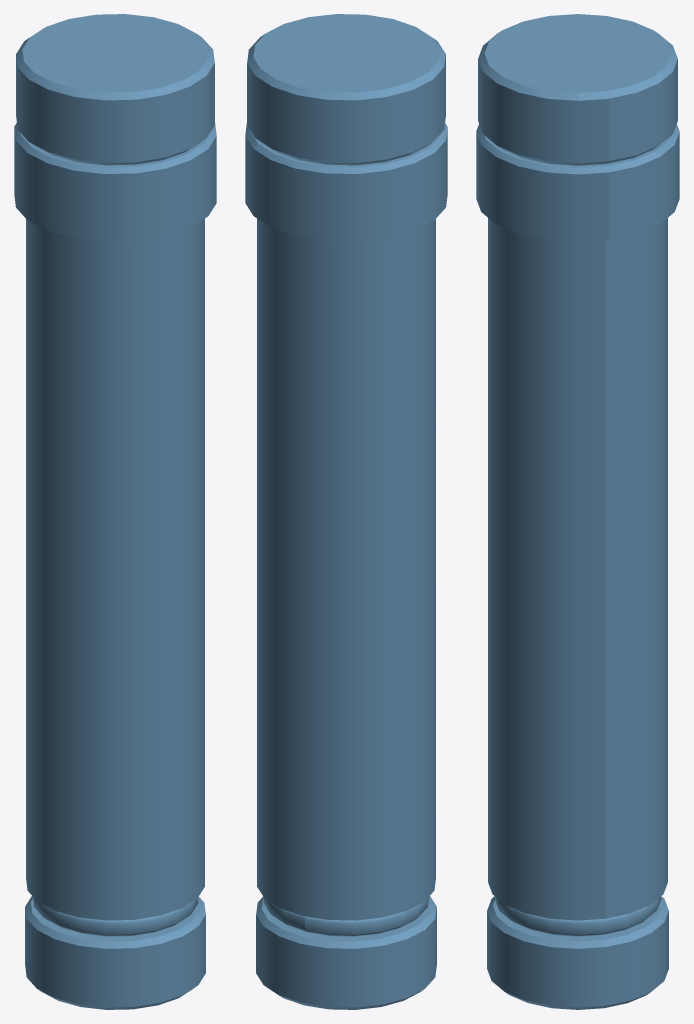
File: FHXY_02BX_A18_JiaChaQi_MD_L_exp.fbx
3 views of the same model, side by side, from view 1: azimuth 30°, elevation 25°; view 2: azimuth 150°, elevation 25°; view 3: azimuth 270°, elevation 25° (orthographic).
Visible parts, largest first — view 1: FHXY_02BX_A18_JiaChaQi_MD_L01_exp, FHXY_02BX_A18_JiaChaQi_MD_L02_exp, FHXY_02BX_A18_JiaChaQi_MD_L03_exp; view 2: FHXY_02BX_A18_JiaChaQi_MD_L01_exp, FHXY_02BX_A18_JiaChaQi_MD_L02_exp, FHXY_02BX_A18_JiaChaQi_MD_L03_exp; view 3: FHXY_02BX_A18_JiaChaQi_MD_L01_exp, FHXY_02BX_A18_JiaChaQi_MD_L02_exp, FHXY_02BX_A18_JiaChaQi_MD_L03_exp.
Part boxes in pixels (box(x1,y1,x2,y2)): FHXY_02BX_A18_JiaChaQi_MD_L01_exp: box(14, 123, 216, 920); FHXY_02BX_A18_JiaChaQi_MD_L02_exp: box(16, 14, 214, 165); FHXY_02BX_A18_JiaChaQi_MD_L03_exp: box(25, 896, 205, 1009); FHXY_02BX_A18_JiaChaQi_MD_L01_exp: box(245, 123, 447, 920); FHXY_02BX_A18_JiaChaQi_MD_L02_exp: box(247, 14, 445, 165); FHXY_02BX_A18_JiaChaQi_MD_L03_exp: box(256, 896, 436, 1009); FHXY_02BX_A18_JiaChaQi_MD_L01_exp: box(476, 124, 679, 920); FHXY_02BX_A18_JiaChaQi_MD_L02_exp: box(478, 14, 677, 165); FHXY_02BX_A18_JiaChaQi_MD_L03_exp: box(487, 896, 668, 1009).
Bounding box in the file's own units: 3.7 × 18.48 × 3.7.
